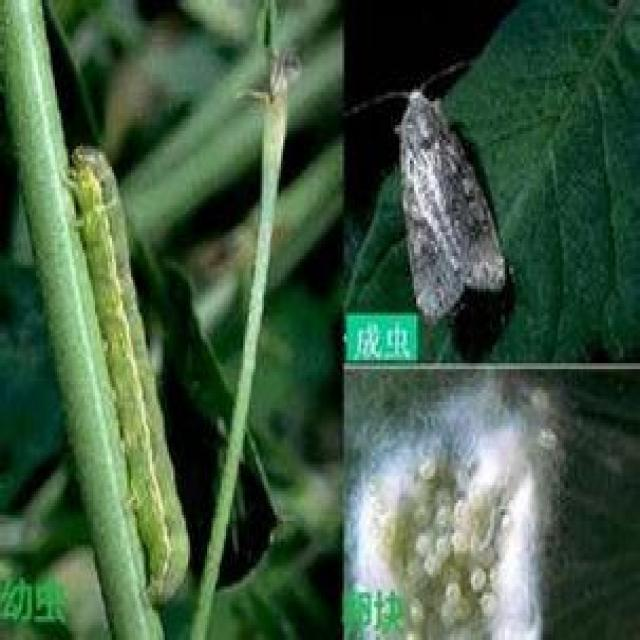BeetArmyWorm-Adult-: (384, 75, 512, 323)
BeetArmyWorm-Larva-: (61, 132, 192, 608)
